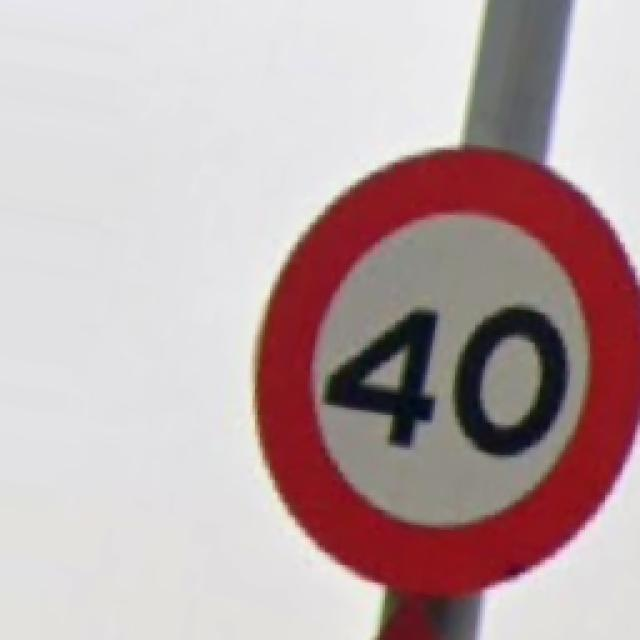Speed Limit -40-: (258, 150, 638, 592)
